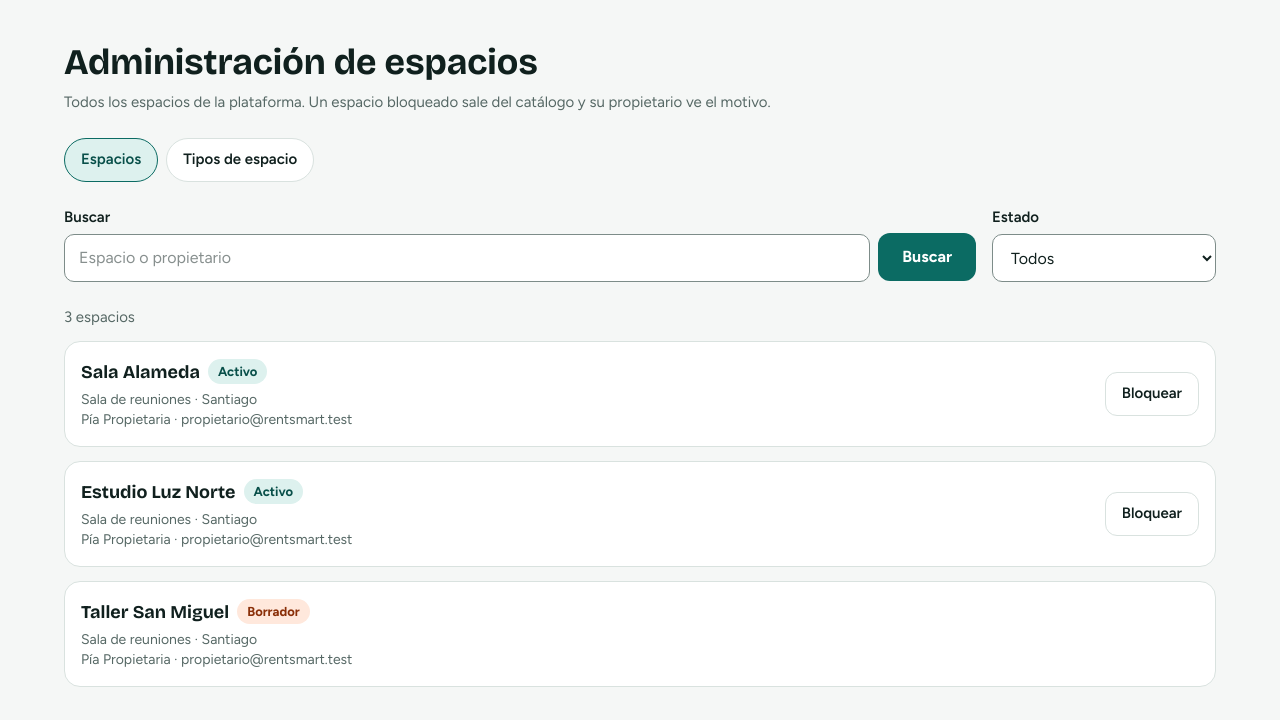
Test: AdminSpacesPage (AD-02) › bloquear › sin motivo no bloquea y lo pide
Click the button with aria-label "Bloquear Sala Alameda" at coordinates (1152, 394), box [1105,372,1199,416]
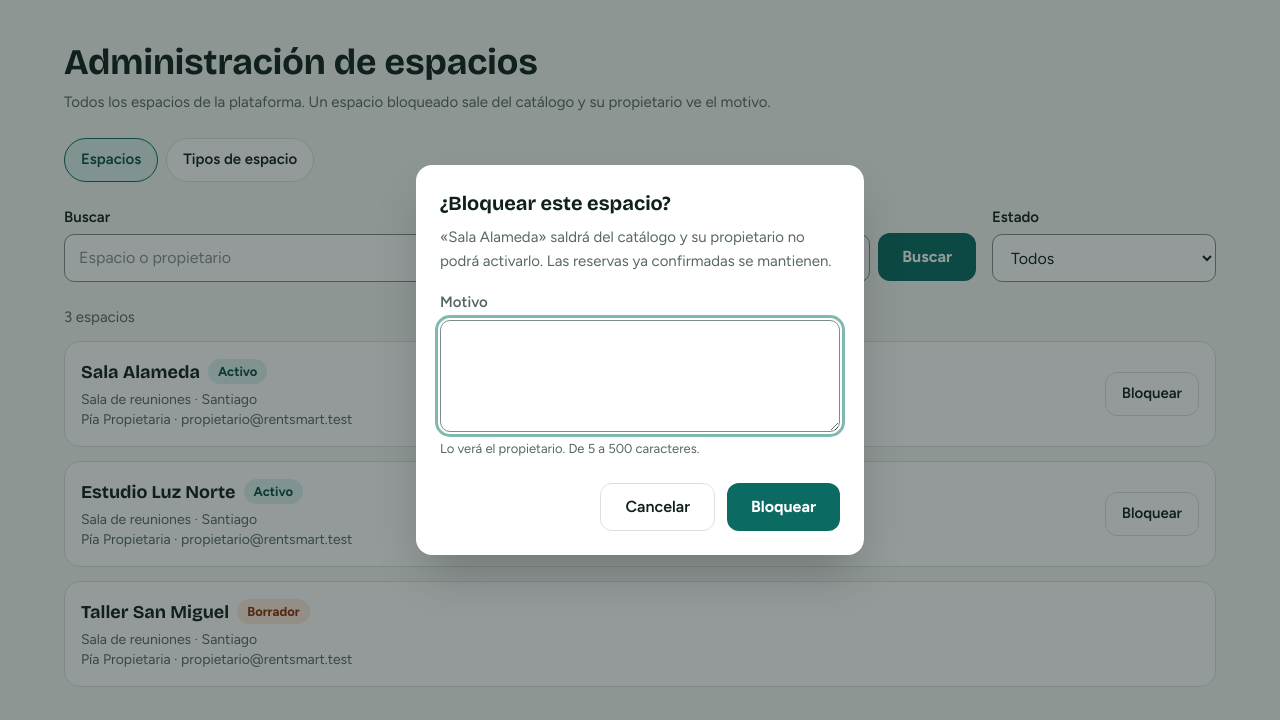
Click the button "Bloquear" at coordinates (784, 507), box [727,483,840,531]
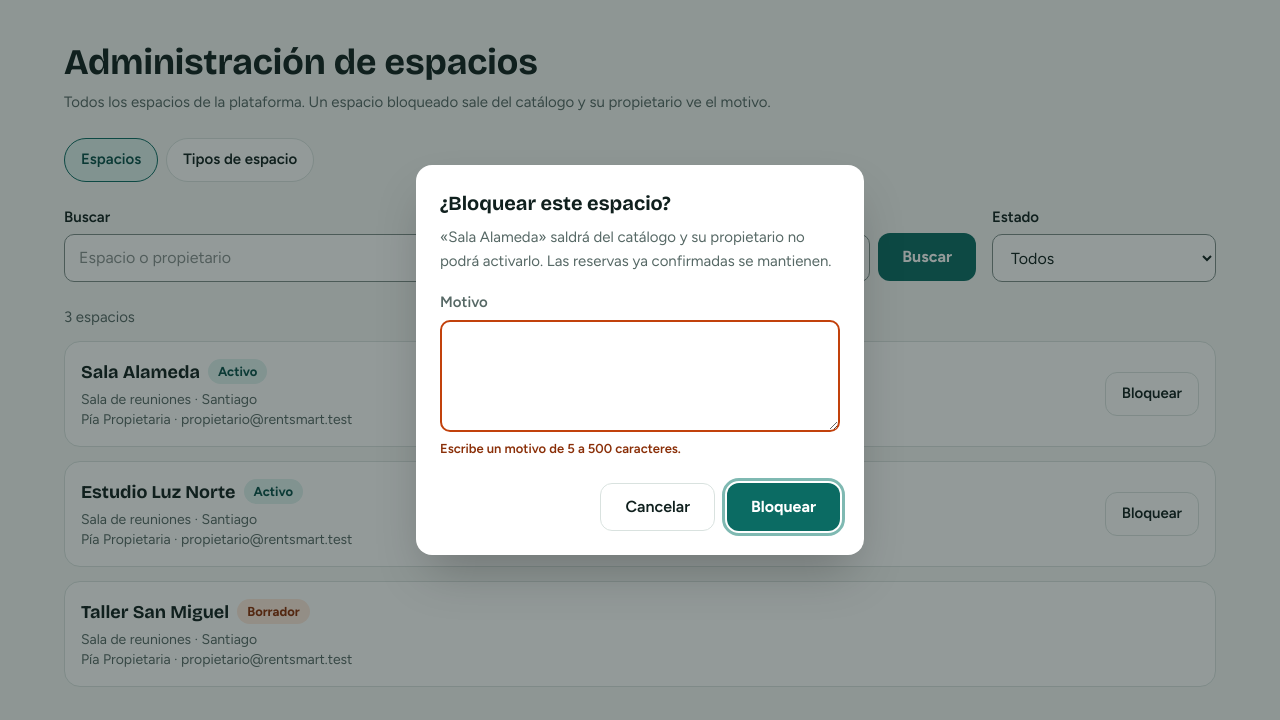
Result: the text "Escribe un motivo de 5 a 500 caracteres." is shown at [440,441,681,456]
